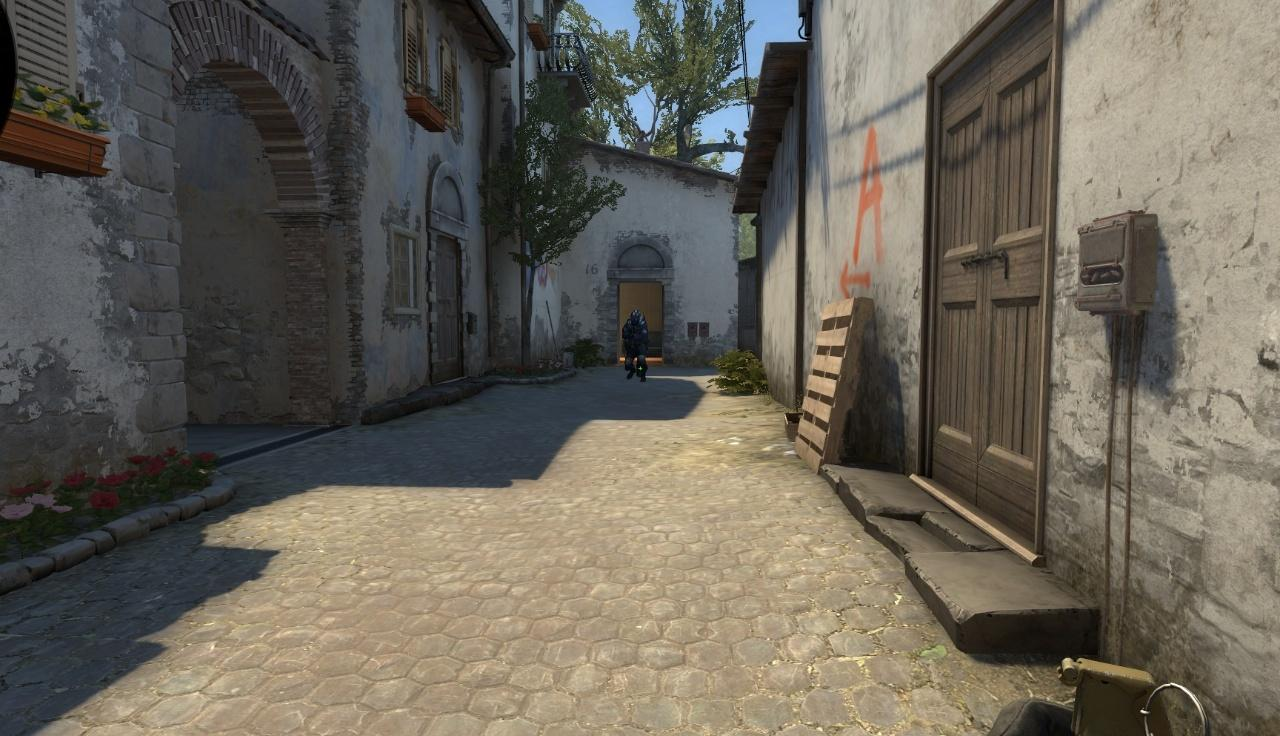ct: (623, 310, 649, 383)
cthead: (630, 310, 640, 325)
